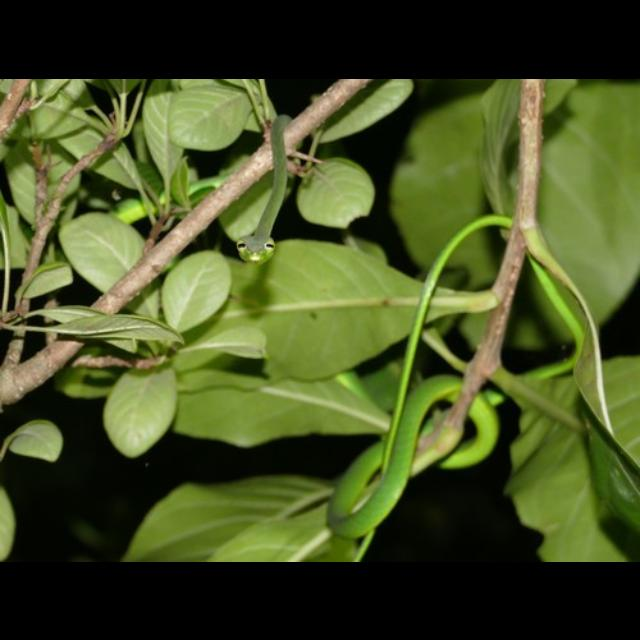snake: (329, 208, 640, 534)
